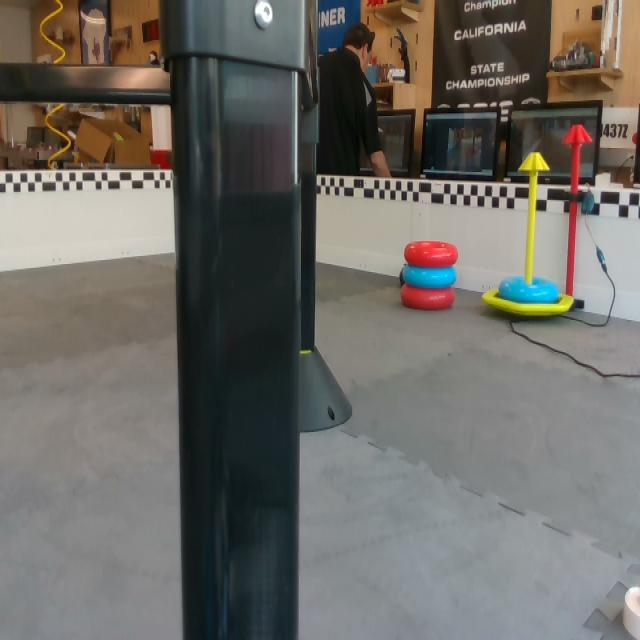Blue-Ring: (497, 276, 560, 303), (402, 262, 458, 287)
Mobile-Goal: (482, 152, 577, 318)
Red-Ring: (404, 240, 458, 267), (400, 283, 454, 310)
Yellow-Stake-Head: (518, 151, 550, 175)
zred-Stake-Head: (562, 125, 592, 143)
